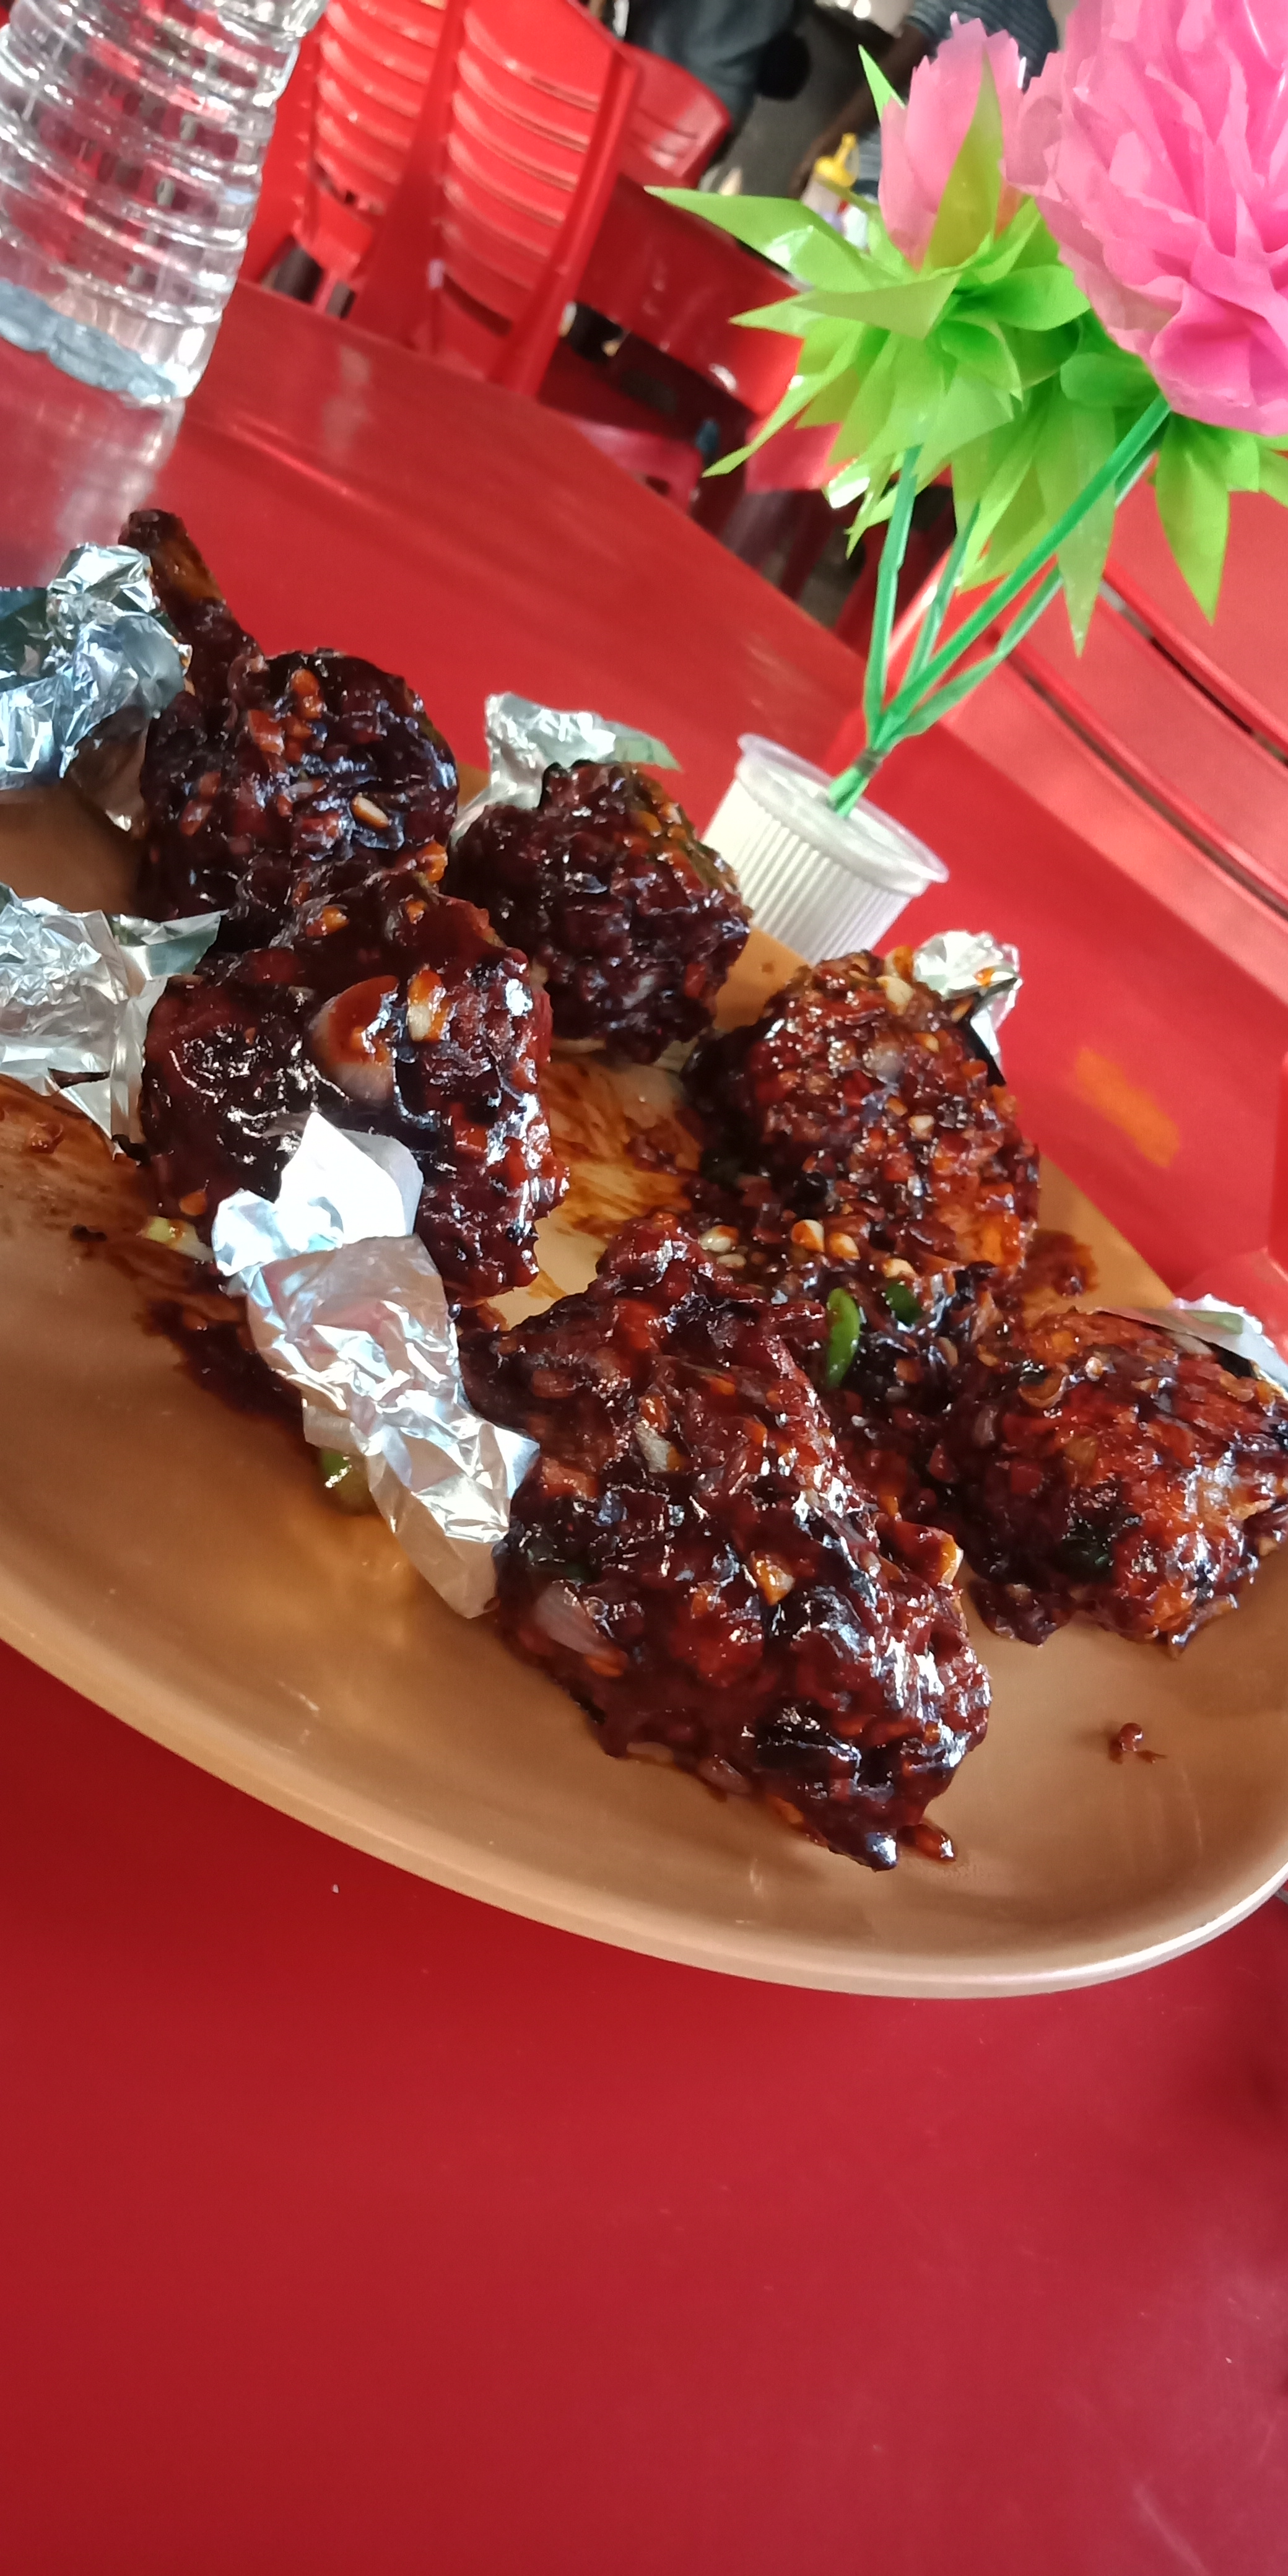food: (0, 496, 1283, 1881)
